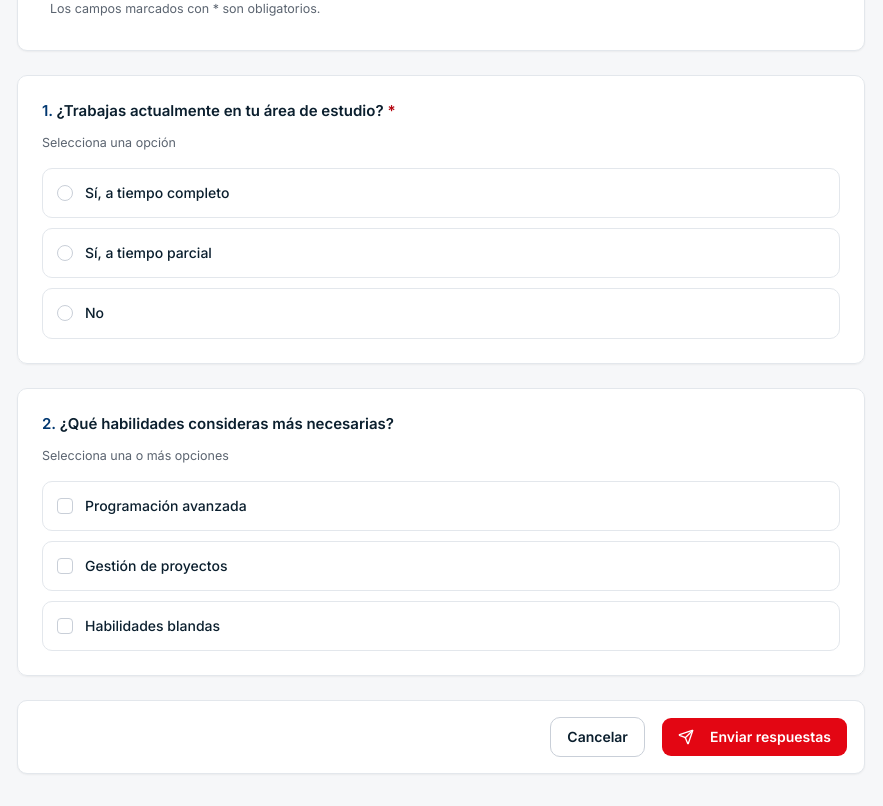
Test: AnswerSurveyView › valida preguntas obligatorias antes de enviar
(page scrolled)
Click the button "Enviar respuestas" at (754, 737), box [661, 717, 848, 757]
(page scrolled)
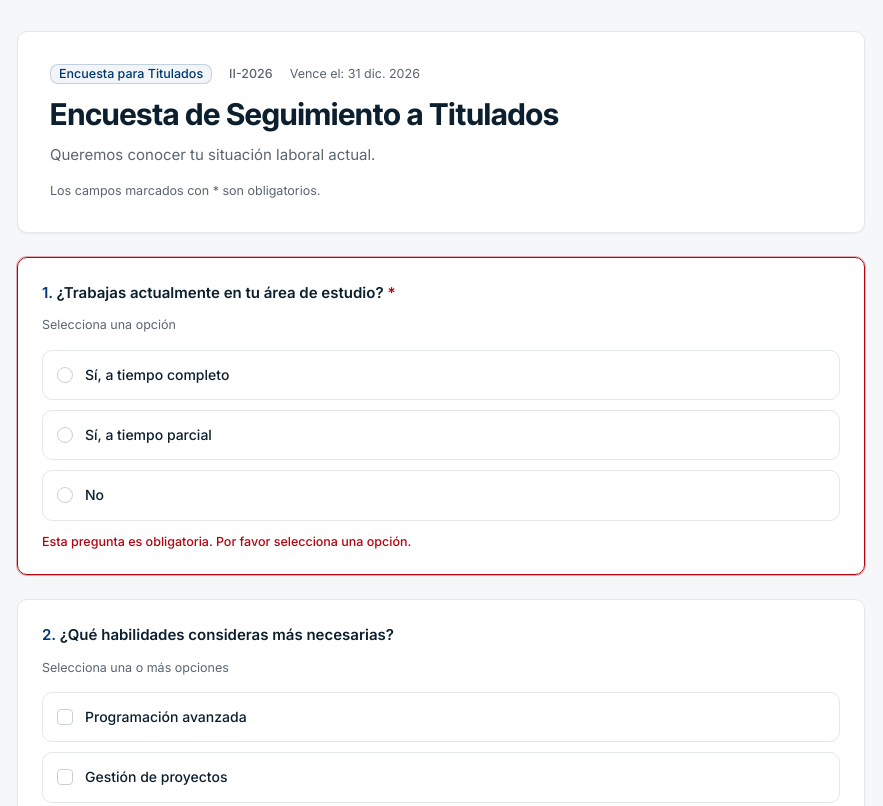
Expected: the text "Esta pregunta es obligatoria. Por favor selecciona una opción." is shown, [42, 534, 411, 548]
